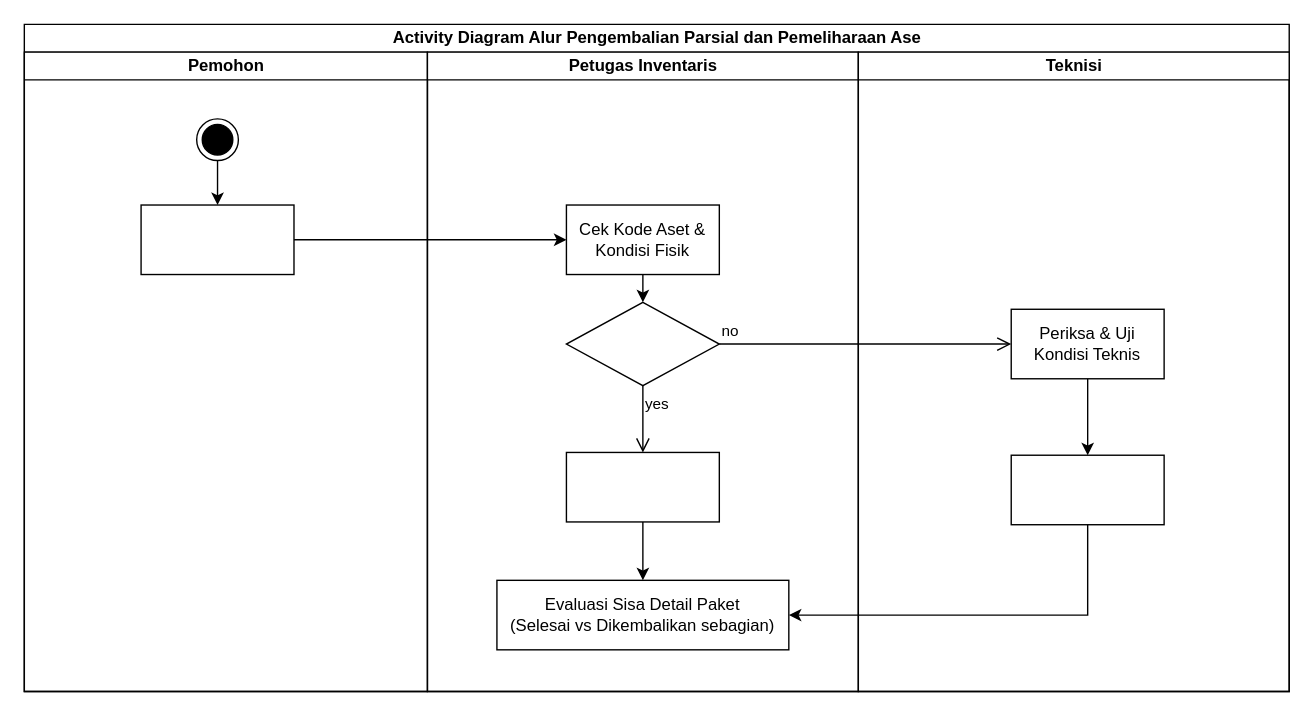
Image size: 1314x716. Some labels were removed from this diagram. Here are the shapes that lost their labels. From the top down, the centre of each, then its label:
the point at 217,239: Bawa Sebagian/Semua Unit
the point at 642,343: Kondisi Baik?
the point at 642,486: Aset 'Tersedia" Detail 'Kembali'
the point at 1087,489: Simpan Perbaikan
